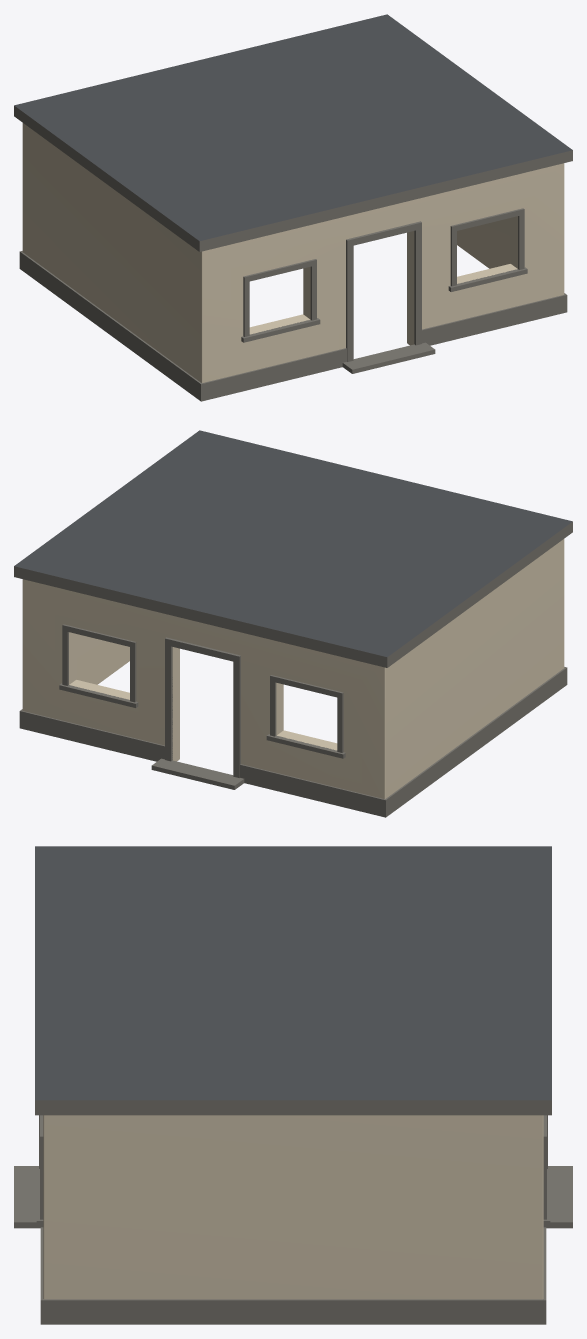
File: house.glb
3 views of the same model, one above another, from view 1: azimuth 30°, elevation 25°; view 2: azimuth 150°, elevation 25°; view 3: azimuth 270°, elevation 25° (orthographic). The views are drawn at different scales.
Parts seen in each view (by area): view 1: House; view 2: House; view 3: House.
Part boxes in pixels (x1,y1,x2,y2): House: (14,14,572,401); House: (14,430,572,817); House: (14,846,572,1324).
Size of the model in its own units: 7.2 by 3 by 6.7.
